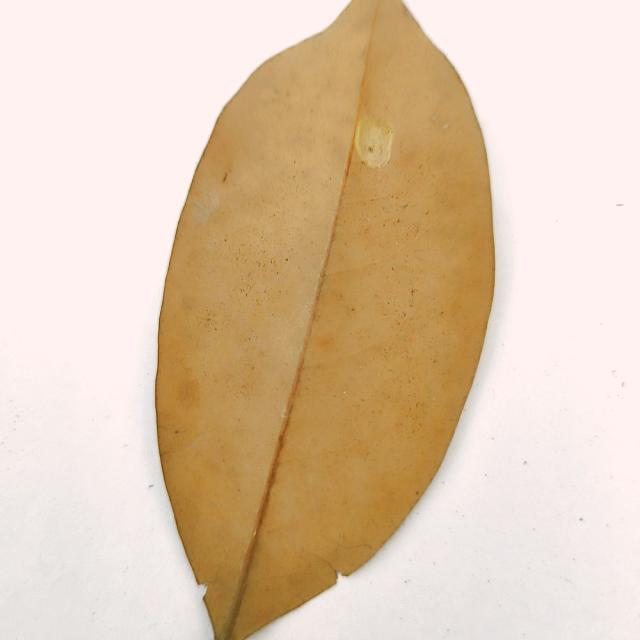Dry_Leaf-Lychee: (154, 0, 497, 639)
